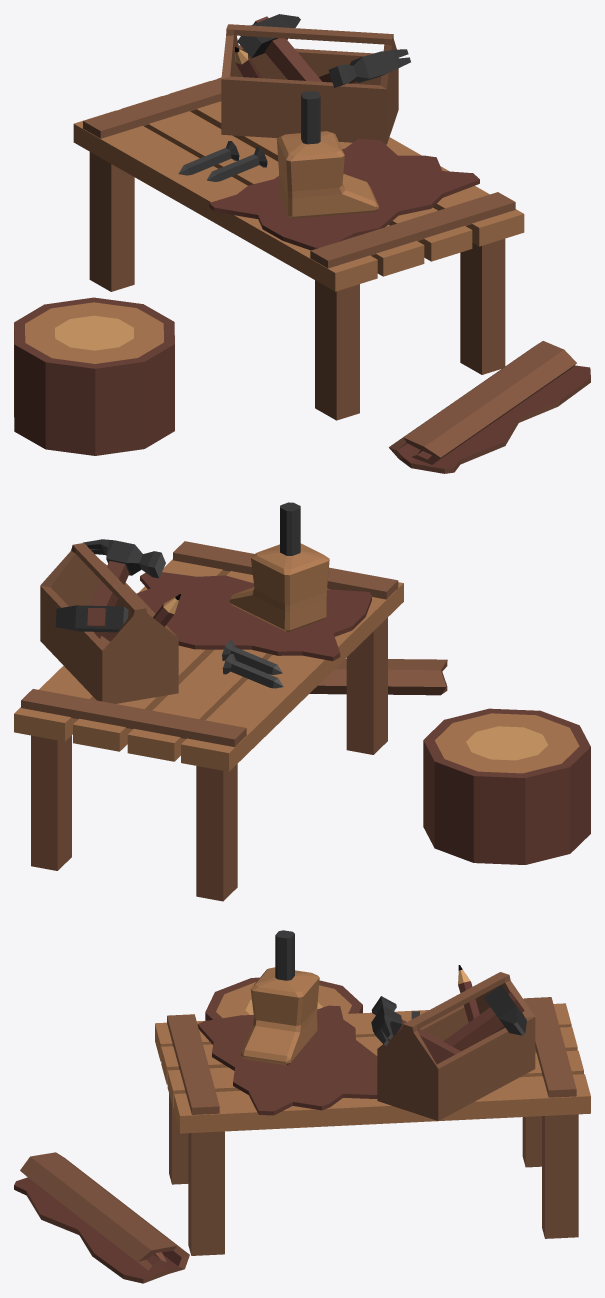
File: shoemakre_1.fbx
3 renders of one model, top to bottom at view 1: azimuth 30°, elevation 25°; view 2: azimuth 150°, elevation 25°; view 3: azimuth 270°, elevation 25°, orthographic. The views are drawn at different scales.
Visible parts, largest first — view 1: table_small, stump, tool_box_full, leather_resource, leather_lining, foot_shoemaker's, nail, nail.001; view 2: table_small, stump, tool_box_full, leather_lining, foot_shoemaker's, leather_resource, nail.001, nail; view 3: table_small, tool_box_full, leather_lining, leather_resource, foot_shoemaker's, stump.
Boxes of the visible parts, bbox=[...] form: table_small: bbox=[73, 77, 524, 420]; stump: bbox=[14, 297, 174, 455]; tool_box_full: bbox=[221, 14, 410, 144]; leather_resource: bbox=[389, 341, 590, 473]; leather_lining: bbox=[209, 139, 479, 250]; foot_shoemaker's: bbox=[276, 91, 378, 218]; nail: bbox=[207, 147, 267, 181]; nail.001: bbox=[178, 141, 239, 175]; table_small: bbox=[14, 541, 403, 901]; stump: bbox=[423, 708, 590, 864]; tool_box_full: bbox=[40, 539, 180, 703]; leather_lining: bbox=[136, 572, 371, 661]; foot_shoemaker's: bbox=[229, 502, 329, 632]; leather_resource: bbox=[309, 658, 447, 695]; nail.001: bbox=[222, 654, 283, 688]; nail: bbox=[222, 640, 282, 674]; table_small: bbox=[155, 997, 590, 1255]; tool_box_full: bbox=[371, 965, 535, 1120]; leather_lining: bbox=[197, 1005, 377, 1115]; leather_resource: bbox=[14, 1152, 189, 1283]; foot_shoemaker's: bbox=[241, 930, 319, 1065]; stump: bbox=[205, 977, 362, 1020].
Size of the model in its own units: 94.84 by 50 by 102.
